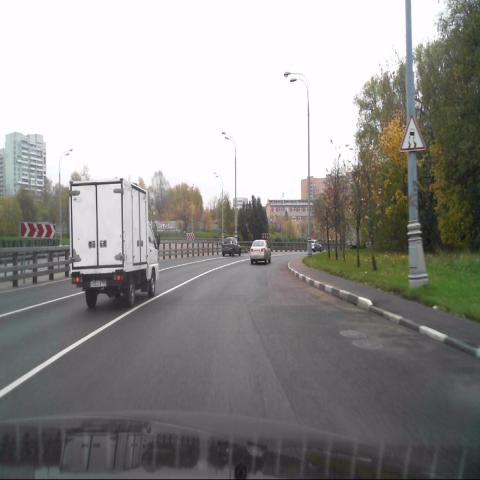1_15: (400, 114, 425, 150)
